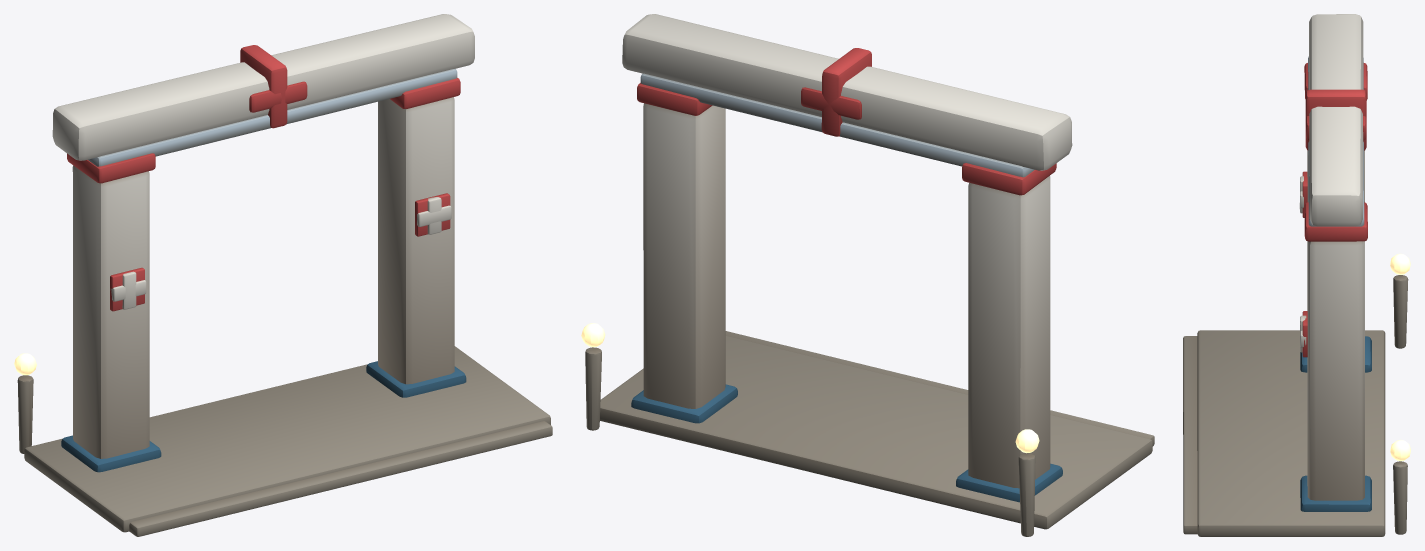
3 renders of one model, left to right at view 1: azimuth 30°, elevation 25°; view 2: azimuth 150°, elevation 25°; view 3: azimuth 270°, elevation 25°, orthographic. The views are drawn at different scales.
Visible parts, largest first — view 1: gate_72f5b873; view 2: gate_72f5b873; view 3: gate_72f5b873.
Part boxes in pixels (x1,y1,x2,y2): gate_72f5b873: (14,14,552,536); gate_72f5b873: (581,14,1154,536); gate_72f5b873: (1183,14,1410,536).
Size of the model in its own units: 5.19 by 4.3 by 2.55.
